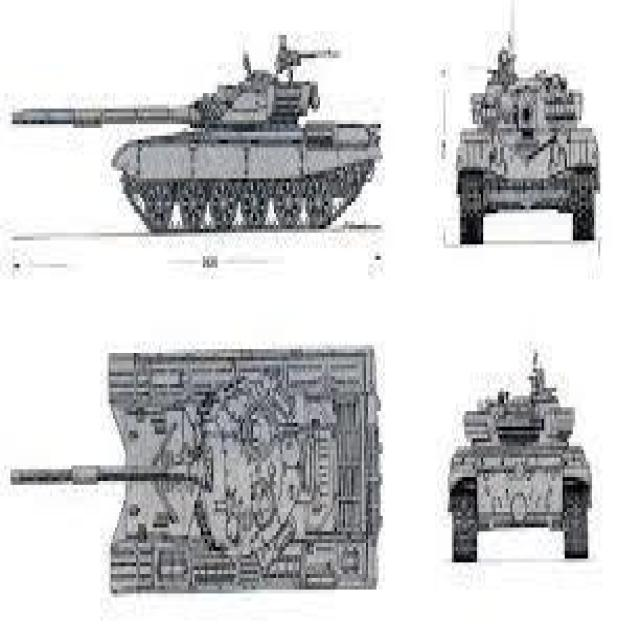Tanks: (99, 340, 386, 604), (102, 35, 385, 237), (444, 339, 600, 580), (449, 35, 608, 260)
